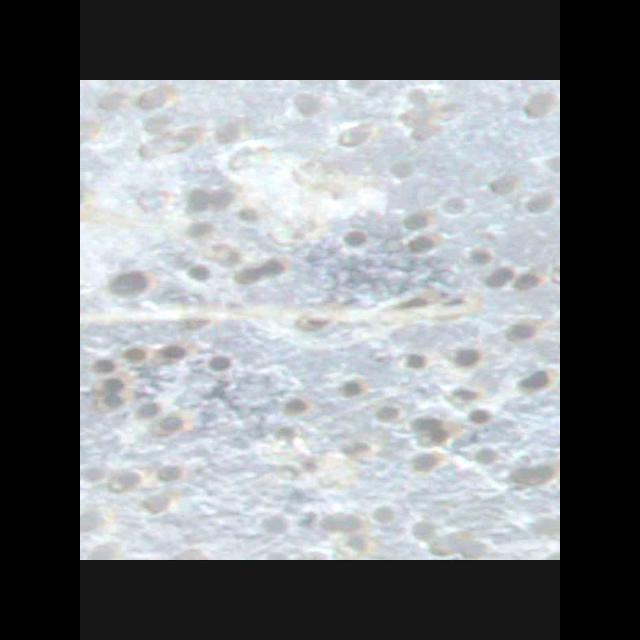Fibre: (80, 285, 492, 335)
